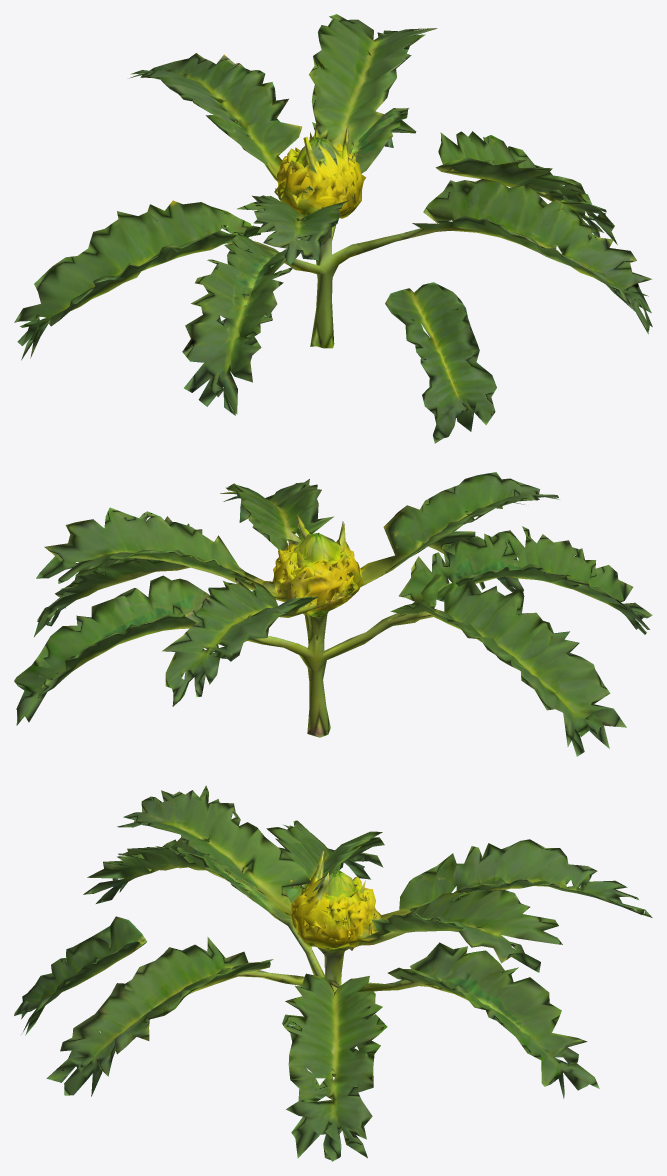
Rendered from gokshura .glb.
3 views of the same model, one above another, from view 1: azimuth 30°, elevation 25°; view 2: azimuth 150°, elevation 25°; view 3: azimuth 270°, elevation 25° (orthographic). The views are drawn at different scales.
Bounding box in the file's own units: 1.97 × 0.7515 × 1.92.
Materials: 1 (1 with a texture image).
